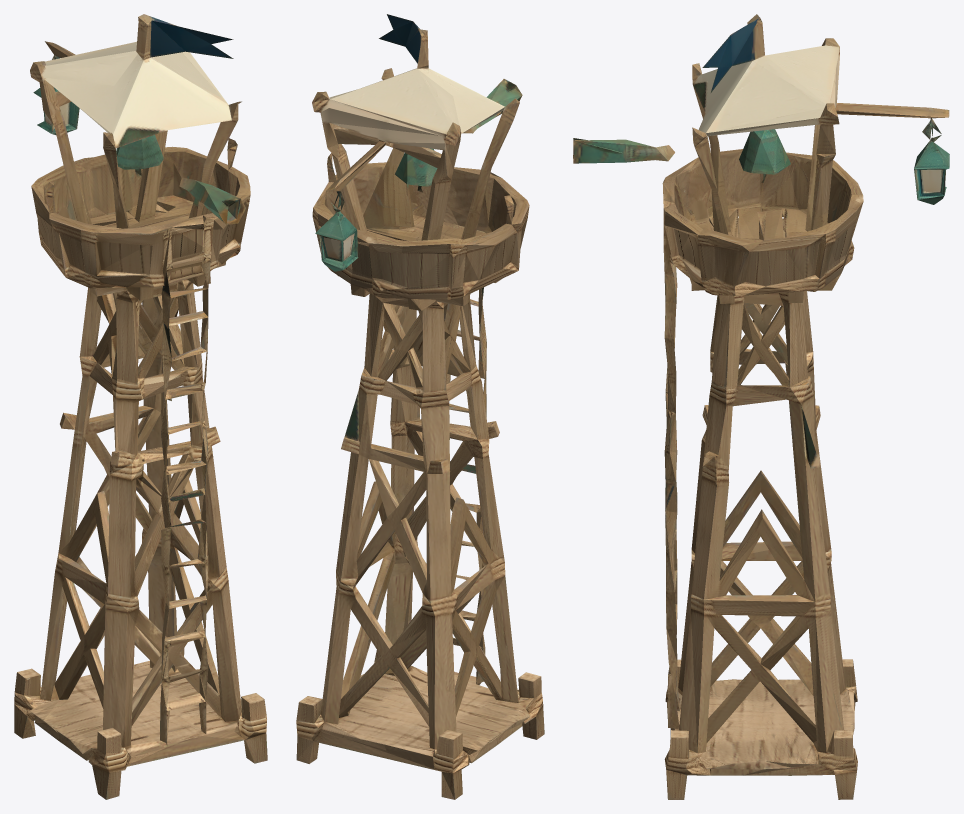
File: watchtower.glb
3 views of the same model, side by side, from view 1: azimuth 30°, elevation 25°; view 2: azimuth 150°, elevation 25°; view 3: azimuth 270°, elevation 25° (orthographic). The views are drawn at different scales.
Size of the model in its own units: 0.5272 by 1.9 by 0.8712.
1 material, 1 textured.
